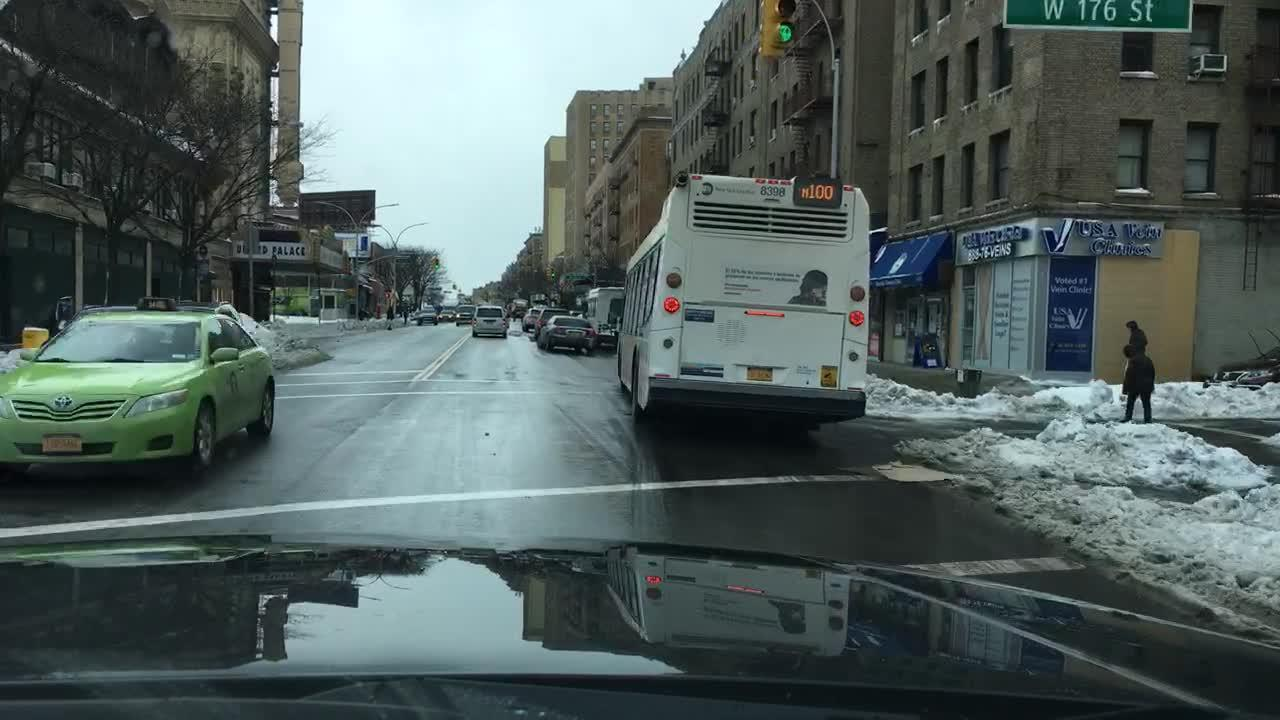Mercedes: (51, 392, 78, 413)
